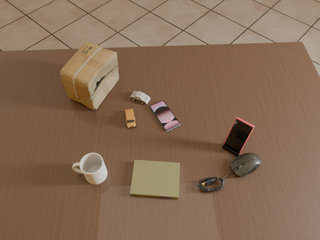book: (130, 160, 180, 199)
box: (60, 41, 119, 110)
cup: (72, 153, 107, 184)
mouse: (231, 153, 261, 177)
phone: (224, 117, 254, 153), (150, 101, 180, 131)
toy_car: (130, 91, 150, 104), (125, 109, 136, 127)
